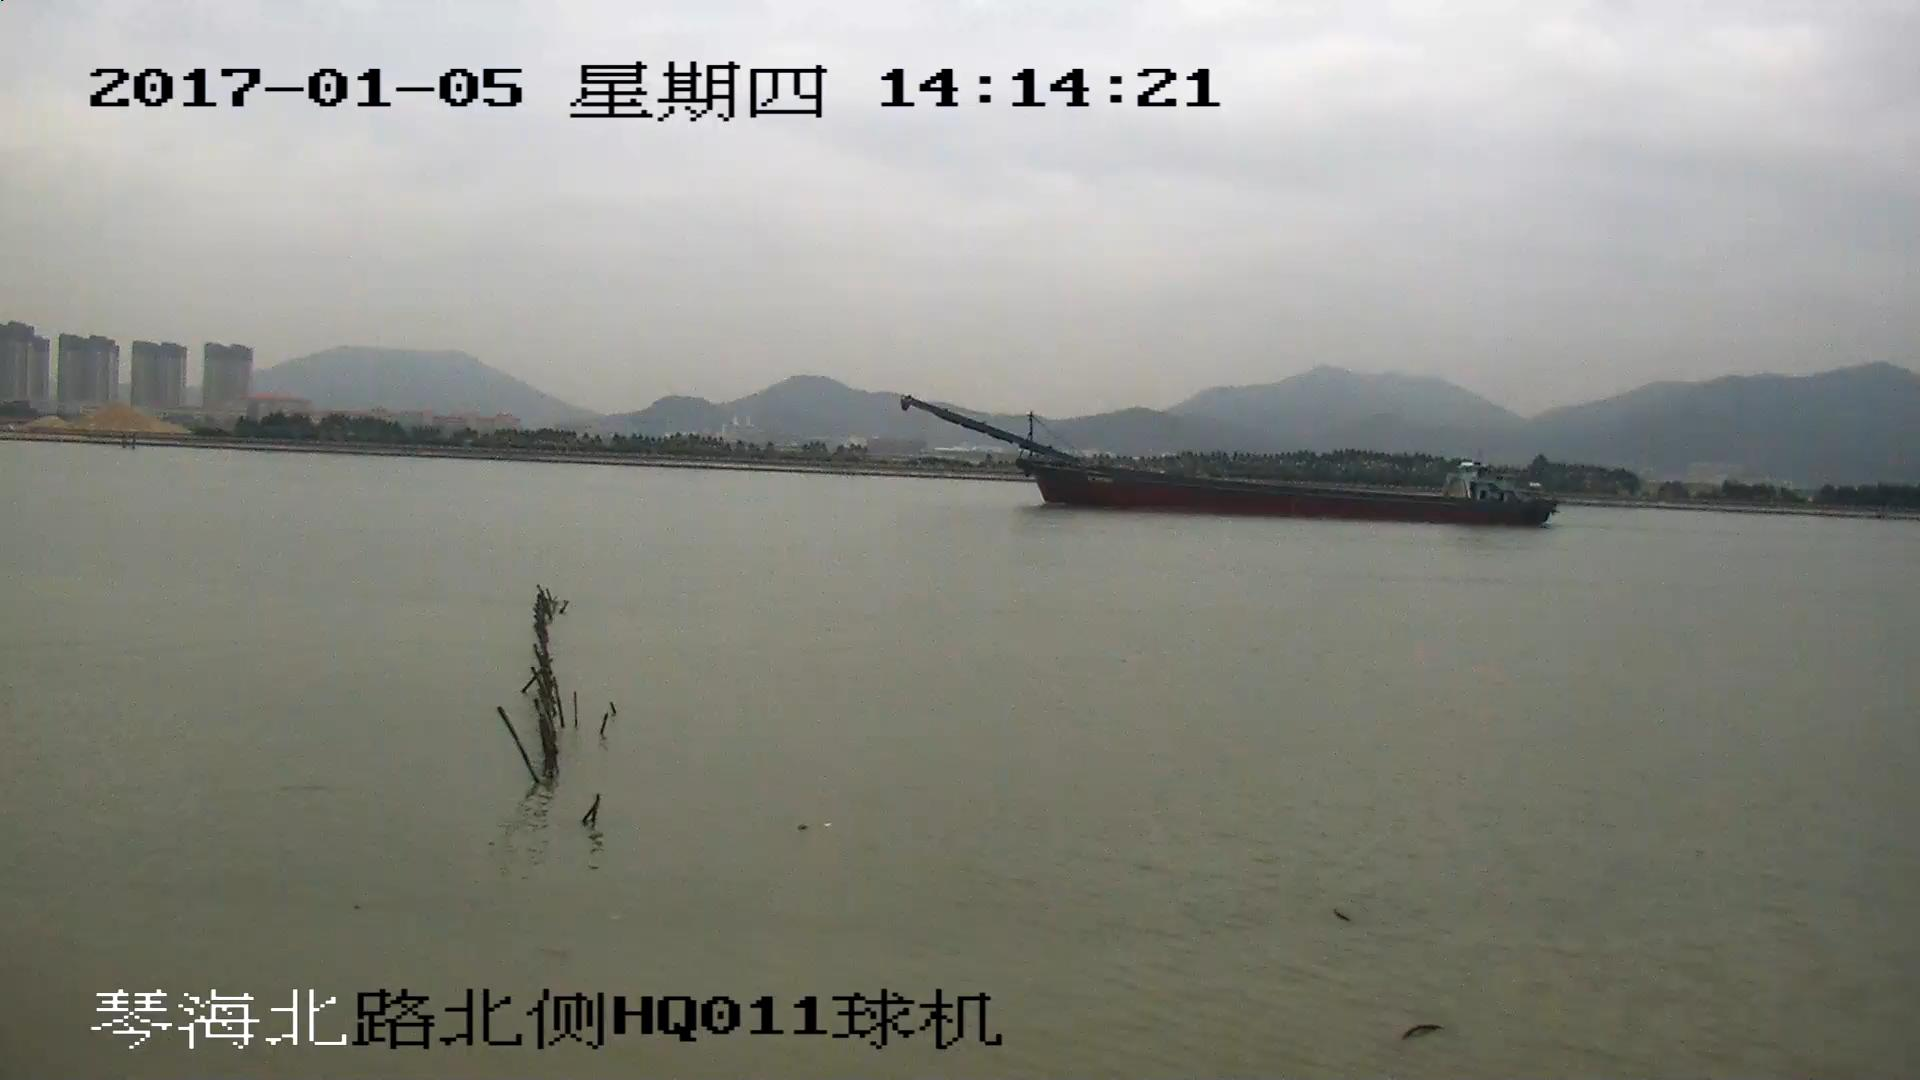bulk cargo carrier: (901, 401, 1551, 527)
